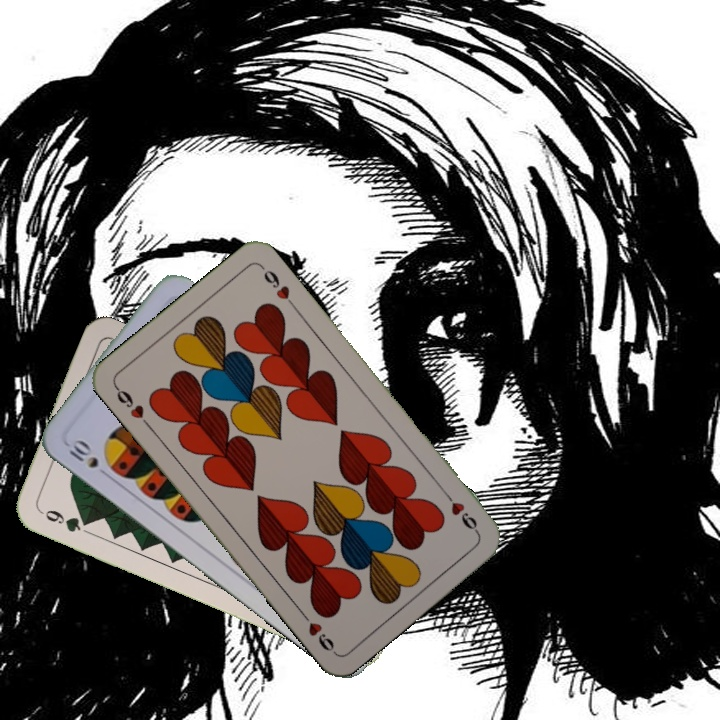G9: (35, 504, 94, 535)
H9: (110, 382, 154, 430), (439, 487, 481, 537)
S10: (63, 435, 113, 481)
